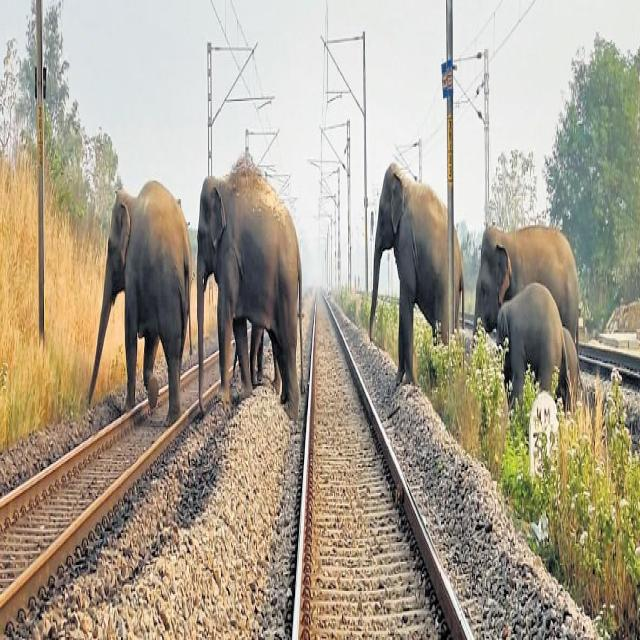Elephant: (195, 147, 308, 419), (472, 206, 584, 444), (362, 156, 468, 405), (88, 184, 189, 432), (493, 278, 565, 464)
